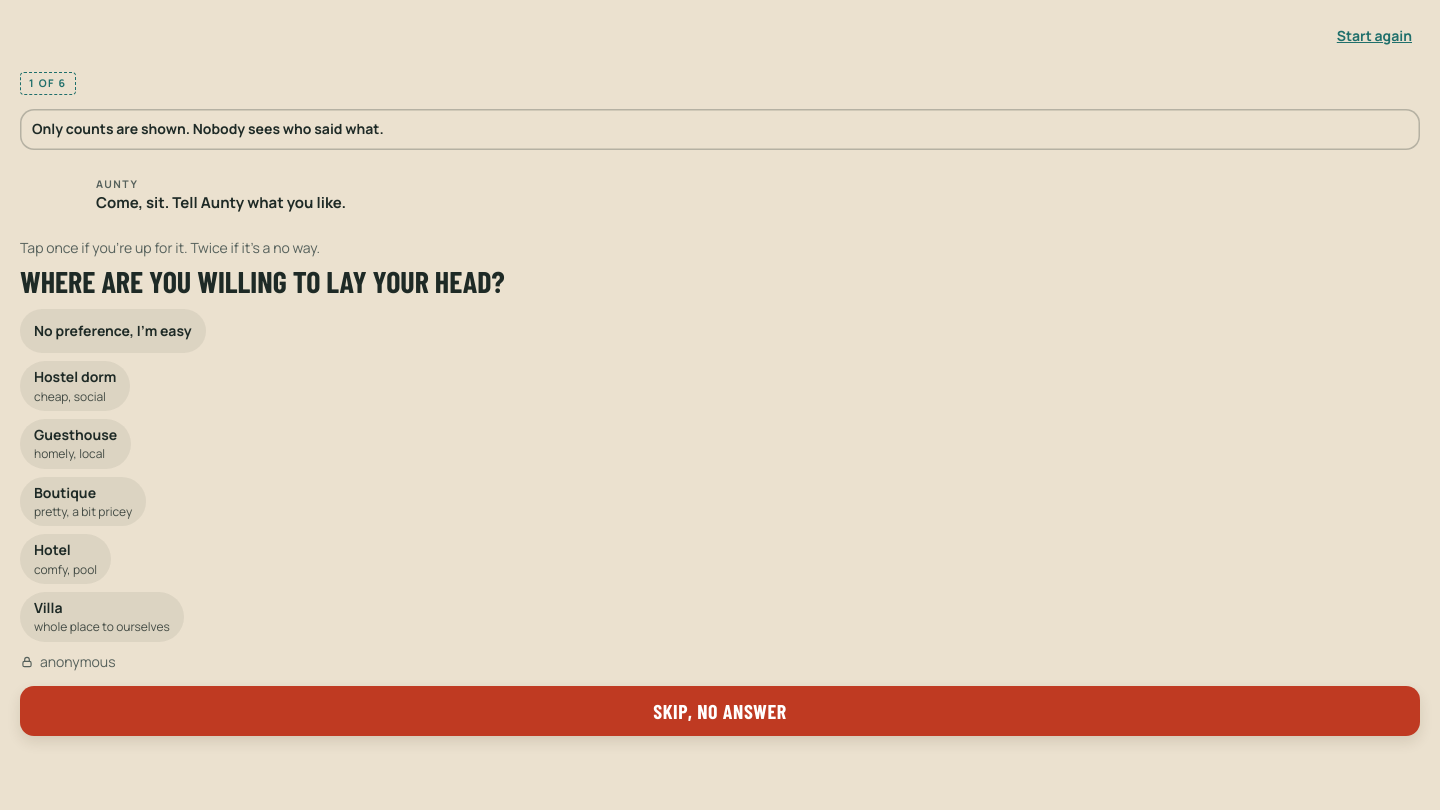
Test: Interview quiz › Back keeps answers
The width and height of the screenshot is (1440, 810).
Click the button with aria-label "Boutique, not set": {"x": 83, "y": 502} [20, 477, 146, 526]
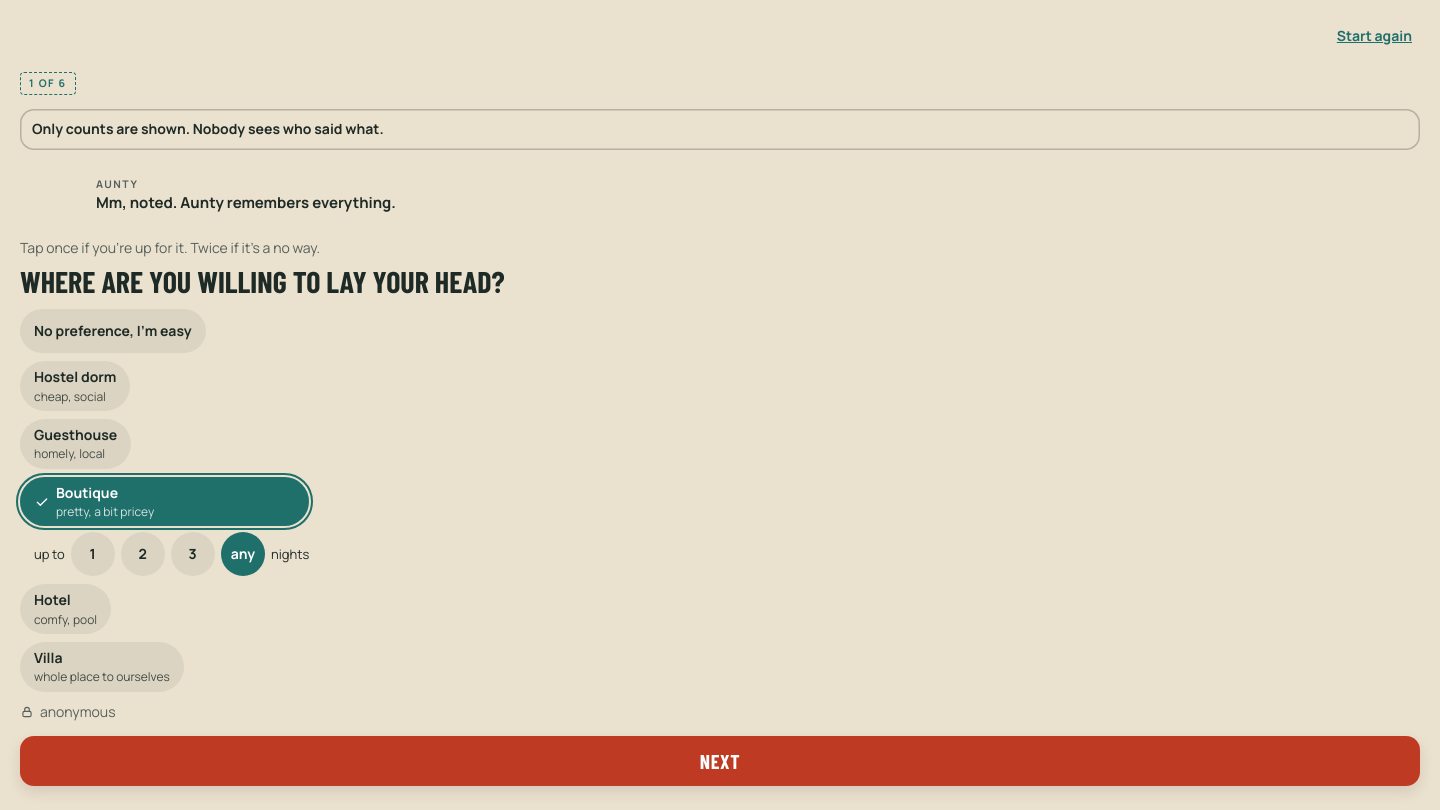
Click the button "Next": {"x": 720, "y": 761} [20, 736, 1420, 786]
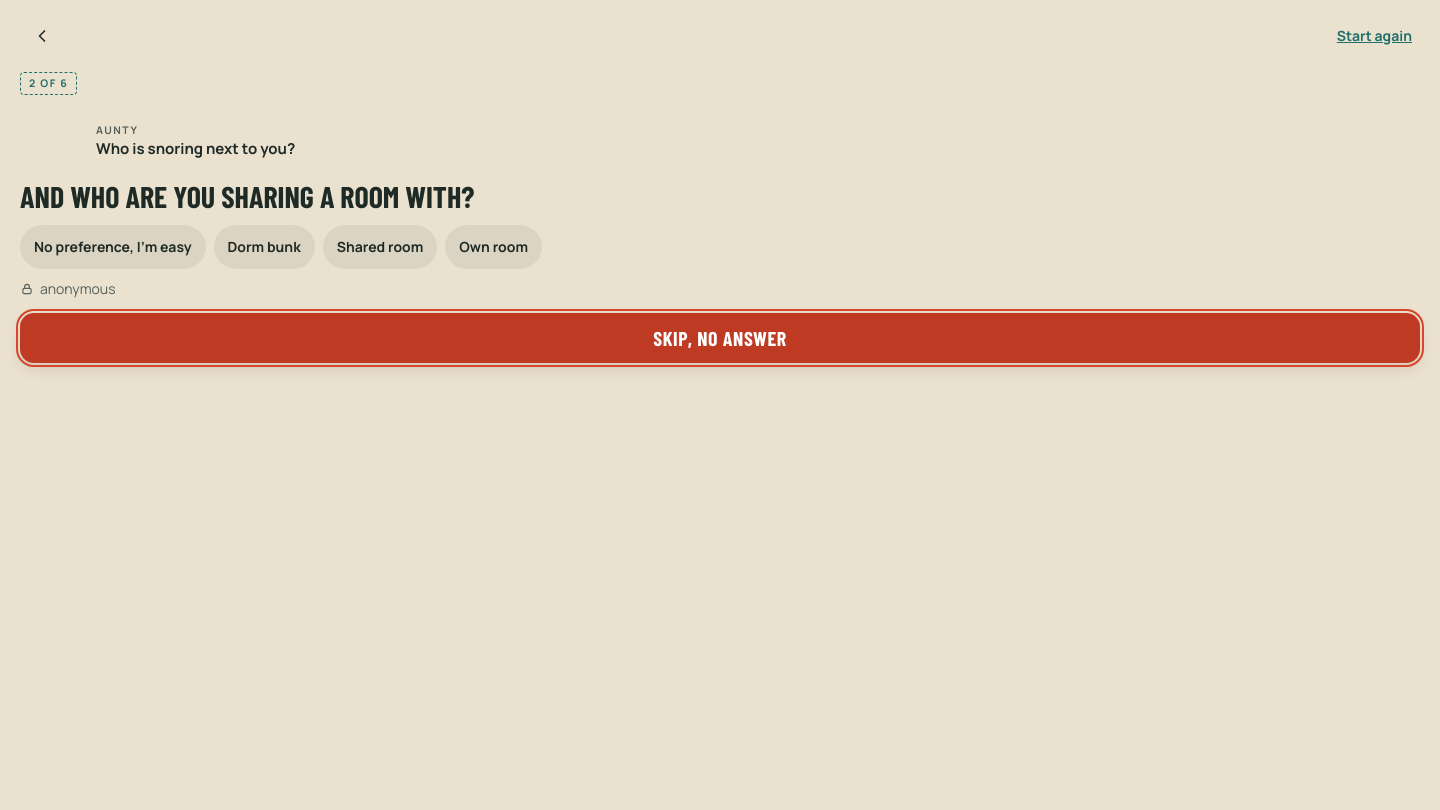
Click the button named "Back": {"x": 42, "y": 36} [20, 14, 64, 58]
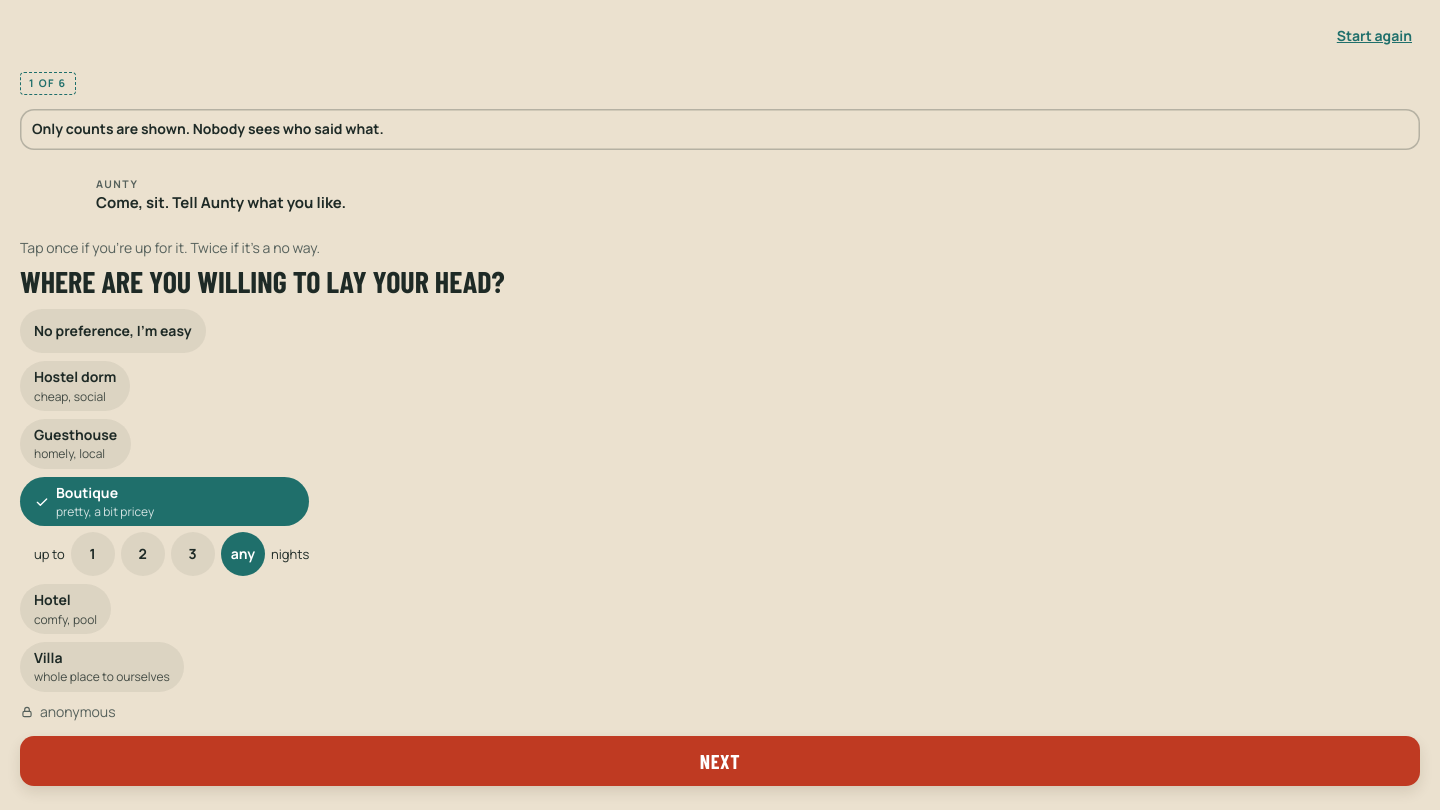
Expected: the button with aria-label "Boutique, happy" is shown, [20, 477, 309, 526]
Expected: the text "1 of 6" is shown, [20, 72, 76, 95]
